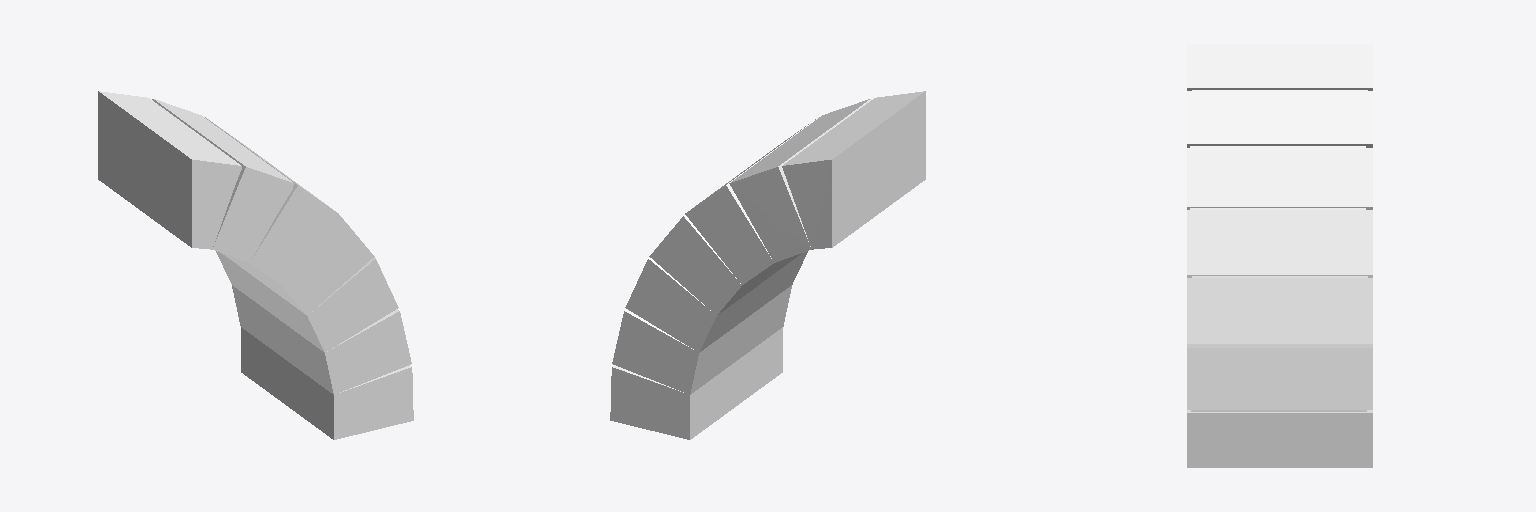
The model's file is generic_gothic_arch_2.obj.
The picture shows the model from 3 angles: view 1: azimuth 30°, elevation 25°; view 2: azimuth 150°, elevation 25°; view 3: azimuth 270°, elevation 25°; orthographic projection.
Parts seen in each view (by area): view 1: arch; view 2: arch; view 3: arch, inner.
Part boxes in pixels (x1,y1,x2,y2): arch: (98, 91, 413, 439); arch: (610, 91, 925, 439); arch: (1187, 44, 1372, 467); inner: (1190, 90, 1367, 411).
Bounding box in the file's own units: 1.55 × 2.1 × 1.13.